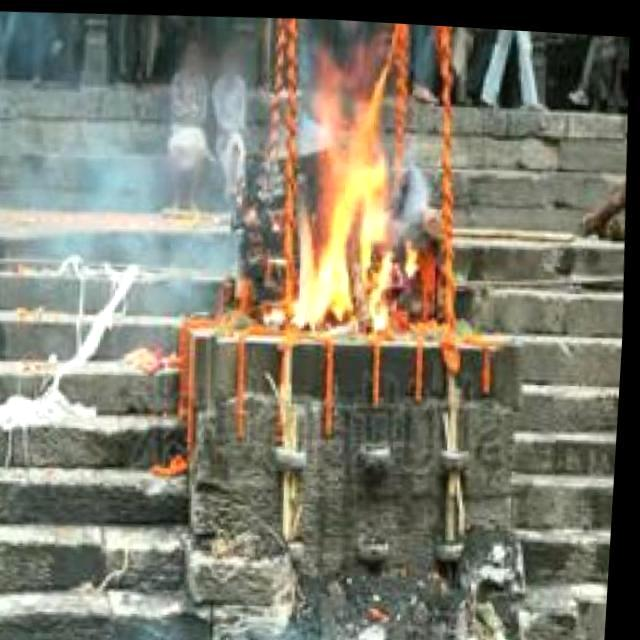fire: (267, 34, 417, 346)
